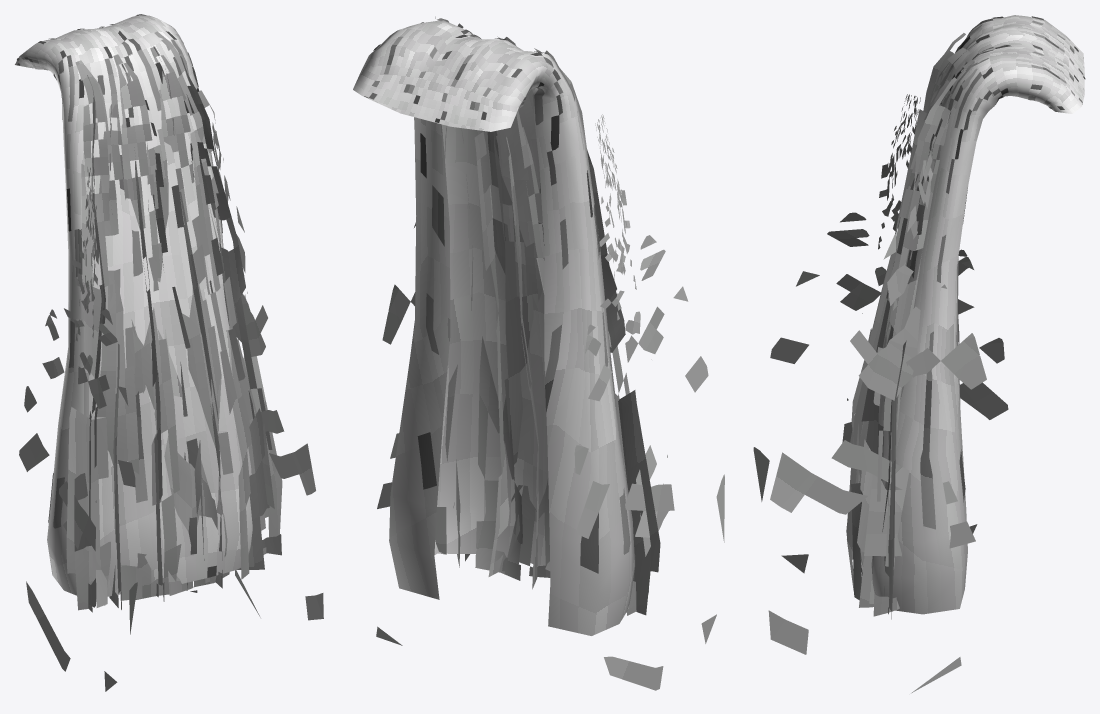
The model's file is vanilla_effects_fxwaterfallbodytall02-09550e0a.glb.
The picture shows the model from 3 angles, left to right: view 1: azimuth 30°, elevation 25°; view 2: azimuth 150°, elevation 25°; view 3: azimuth 270°, elevation 25°; orthographic projection. The views are drawn at different scales.
Visible parts, largest first — view 1: es|L2_whiteCrossStream05, es|FXWaterfallBodyTallInner02, es|jet01:0, es|FXWaterfallBodyTallFoam01, es|jet11:0; view 2: es|FXWaterfallBodyTallInner02, es|L2_whiteCrossStream05, es|jet01:0, es|FXWaterfallBodyTallFoam01, es|jet11:0; view 3: es|FXWaterfallBodyTallInner02, es|L2_whiteCrossStream05, es|jet11:0, es|jet01:0, es|FXWaterfallBodyTallFoam01.
Boxes of the visible parts, x1=… form: es|L2_whiteCrossStream05: x1=66, y1=31, x2=282, y2=612; es|FXWaterfallBodyTallInner02: x1=15, y1=15, x2=252, y2=596; es|jet01:0: x1=19, y1=167, x2=137, y2=691; es|FXWaterfallBodyTallFoam01: x1=17, y1=14, x2=233, y2=577; es|jet11:0: x1=212, y1=122, x2=323, y2=620; es|FXWaterfallBodyTallInner02: x1=353, y1=20, x2=634, y2=635; es|L2_whiteCrossStream05: x1=435, y1=16, x2=660, y2=615; es|jet01:0: x1=574, y1=114, x2=724, y2=690; es|FXWaterfallBodyTallFoam01: x1=364, y1=22, x2=630, y2=573; es|jet11:0: x1=376, y1=222, x2=469, y2=645; es|FXWaterfallBodyTallInner02: x1=860, y1=15, x2=1084, y2=614; es|L2_whiteCrossStream05: x1=846, y1=24, x2=988, y2=619; es|jet11:0: x1=768, y1=152, x2=986, y2=693; es|jet01:0: x1=753, y1=94, x2=1008, y2=573; es|FXWaterfallBodyTallFoam01: x1=861, y1=16, x2=1085, y2=575.
Size of the model in its own units: 15.6 by 39.37 by 19.41.
5 materials, 5 textured.
